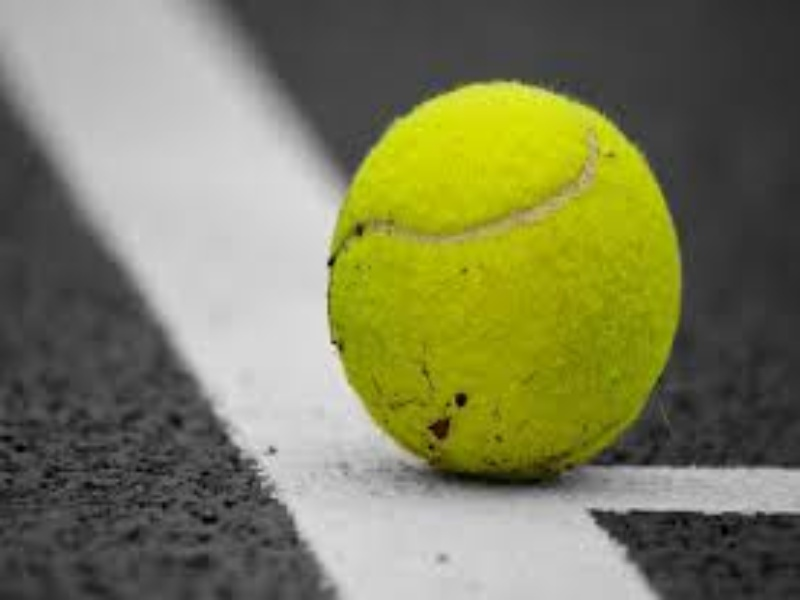tennis ball: (326, 74, 703, 482)
